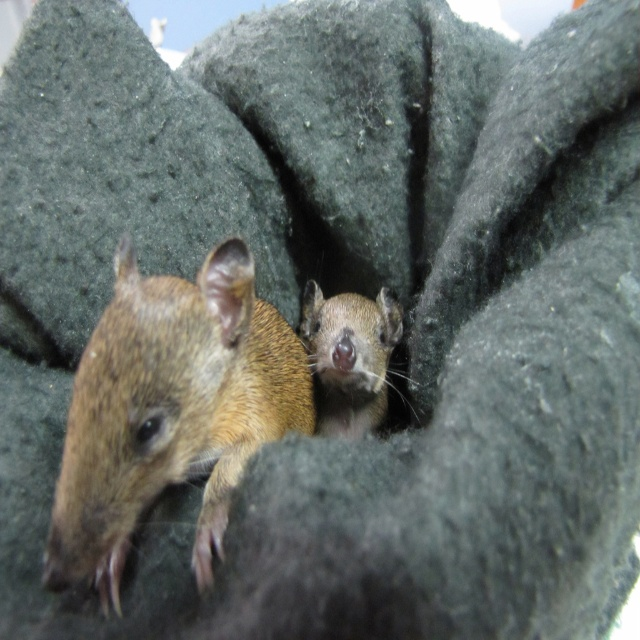Mouse: (289, 277, 417, 436)
